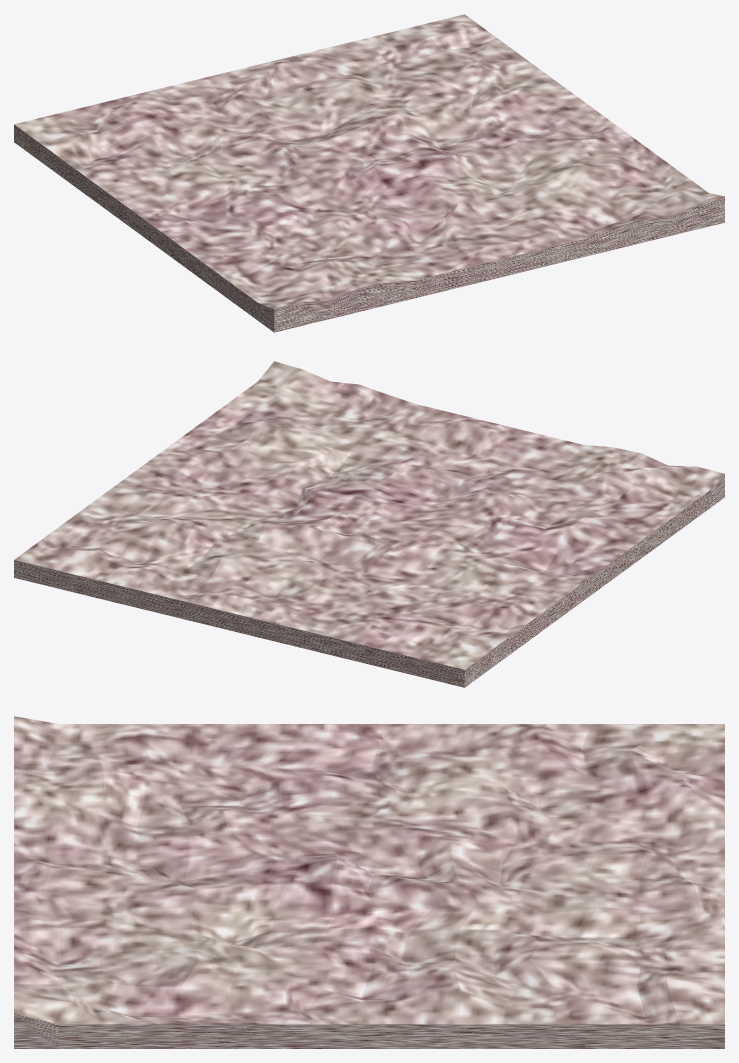
File: gravel.glb
3 views of the same model, one above another, from view 1: azimuth 30°, elevation 25°; view 2: azimuth 150°, elevation 25°; view 3: azimuth 270°, elevation 25° (orthographic). The views are drawn at different scales.
Visible parts, largest first — view 1: Cube; view 2: Cube; view 3: Cube.
Boxes of the visible parts, <box> form: Cube: <box>14,14,724,332</box>; Cube: <box>14,361,724,687</box>; Cube: <box>14,716,724,1048</box>.
Bounding box in the file's own units: 2 × 0.1163 × 2.
Materials: 1 (1 with a texture image).
